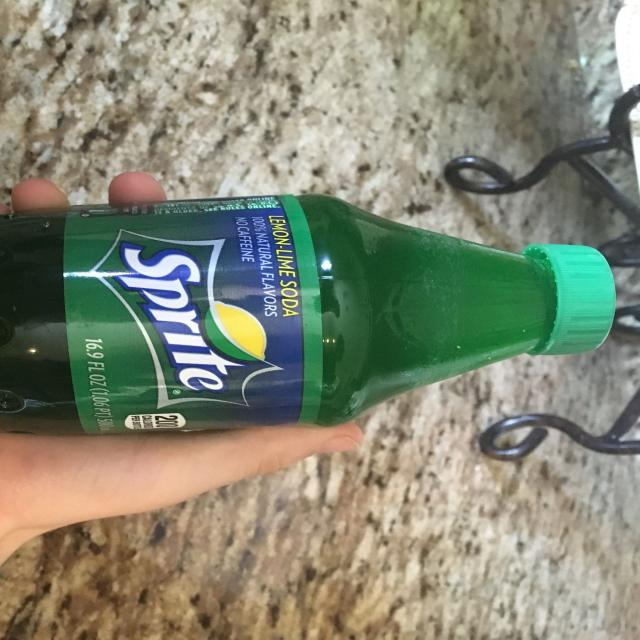Soda: (0, 175, 618, 461)
